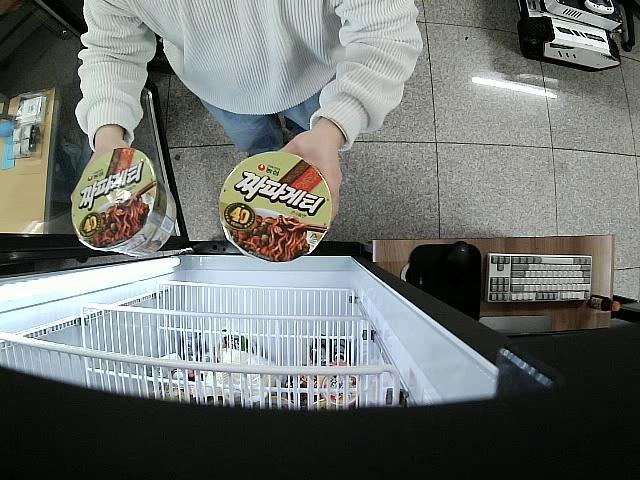00_hand: (277, 129, 343, 225)
03_chapagetti_L: (218, 152, 332, 263), (71, 149, 177, 258)
